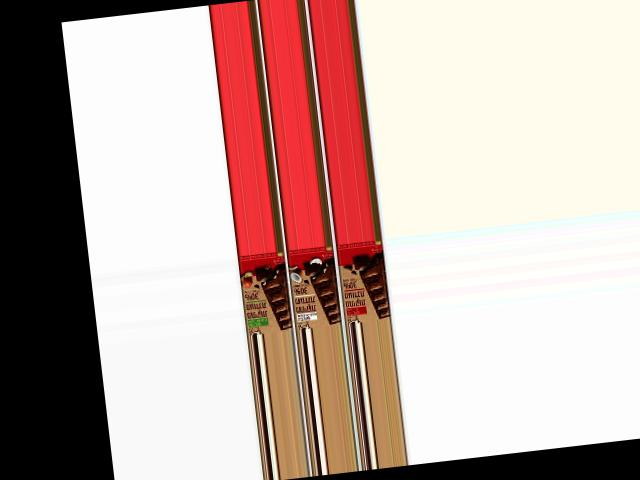chocolate: (235, 250, 291, 335)
